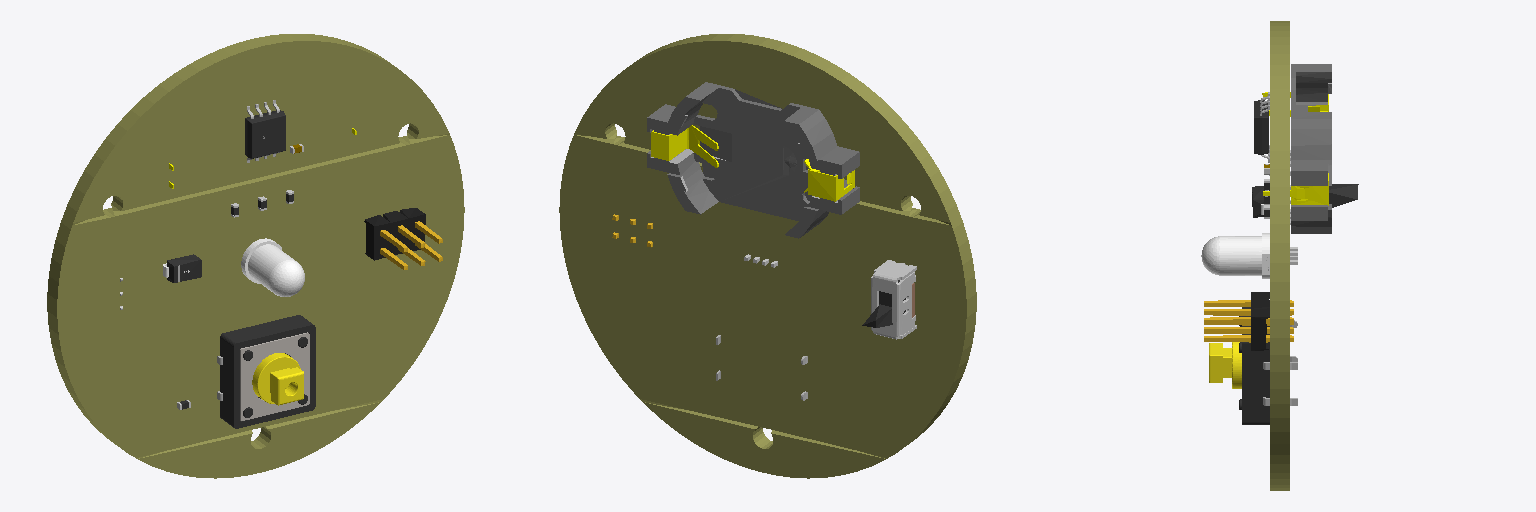
The model's file is OBJ_PCB_ATtiny85_MiniRGBDriver.obj.
The picture shows the model from 3 angles: view 1: azimuth 30°, elevation 25°; view 2: azimuth 150°, elevation 25°; view 3: azimuth 270°, elevation 25°; orthographic projection.
Bounding box in the file's own units: 235 × 235 × 78.5.